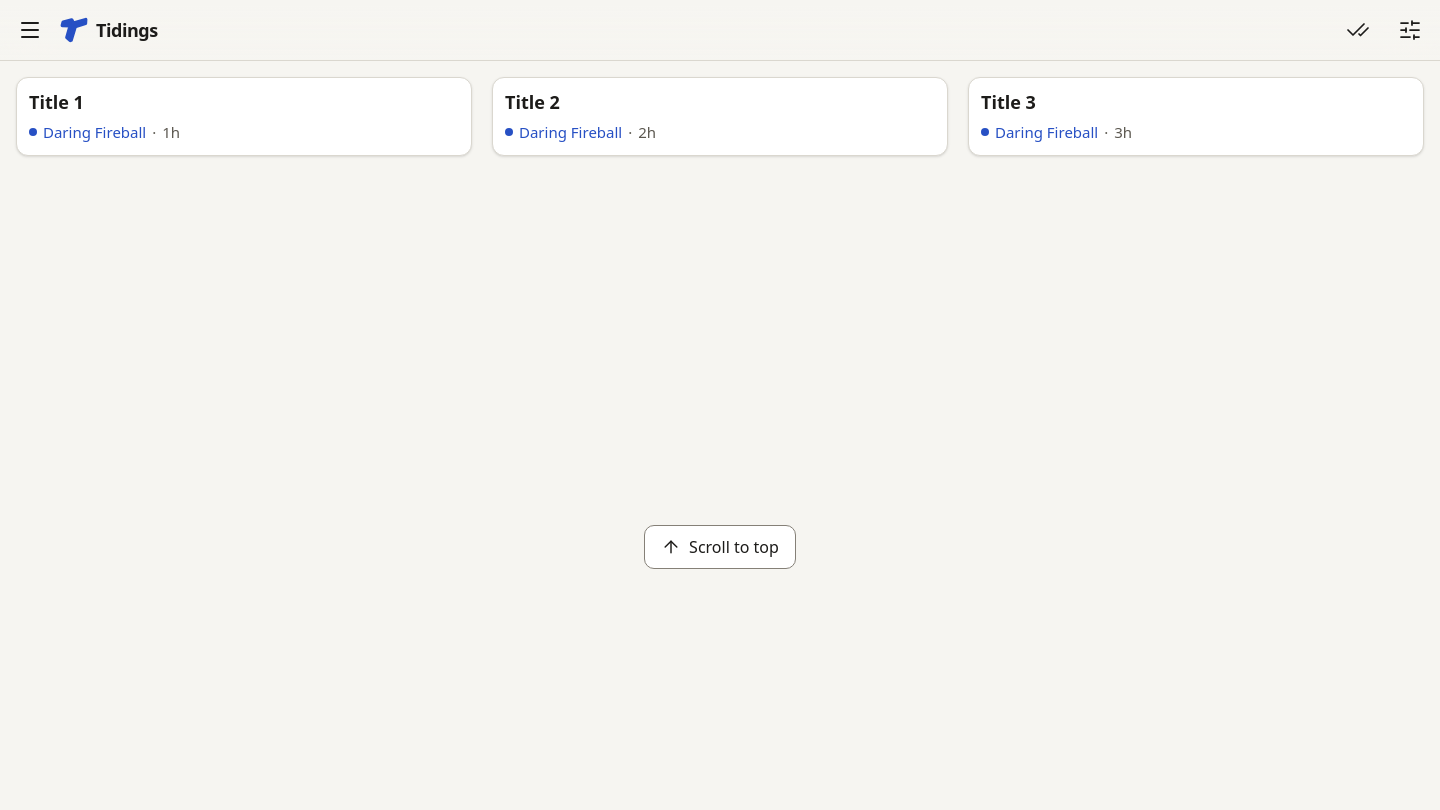
Scenario: TID-055: swipe gestures in the installed app › the open drawer swipes left to close, in a browser tab too
The width and height of the screenshot is (1440, 810).
Expected: the heading "Title 1" is shown, [29,90,84,114]
Click the button named "Open navigation": (30, 30) [8,8,52,52]
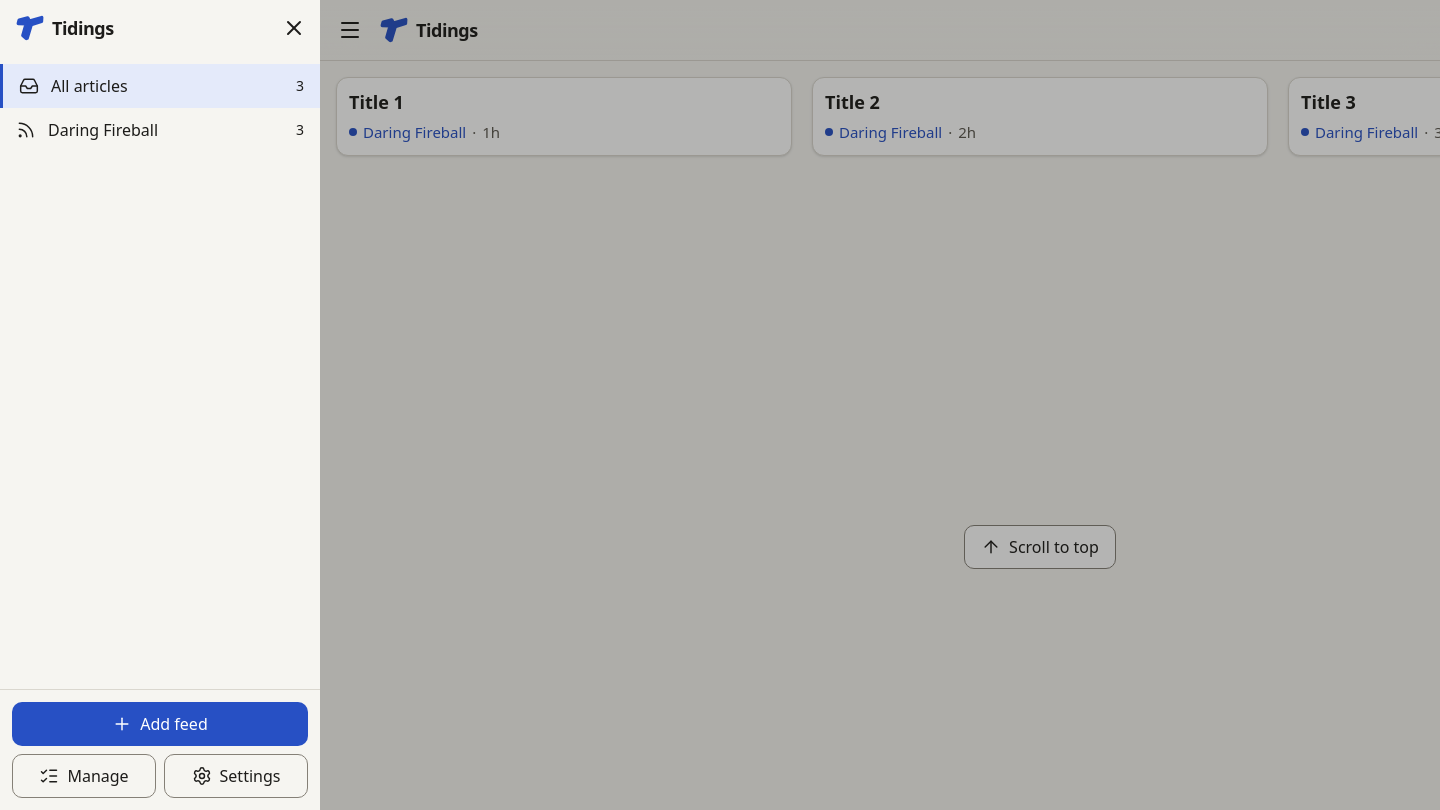
Press the mouse on the dialog named "Navigation": (160, 405) [0,0,320,809]
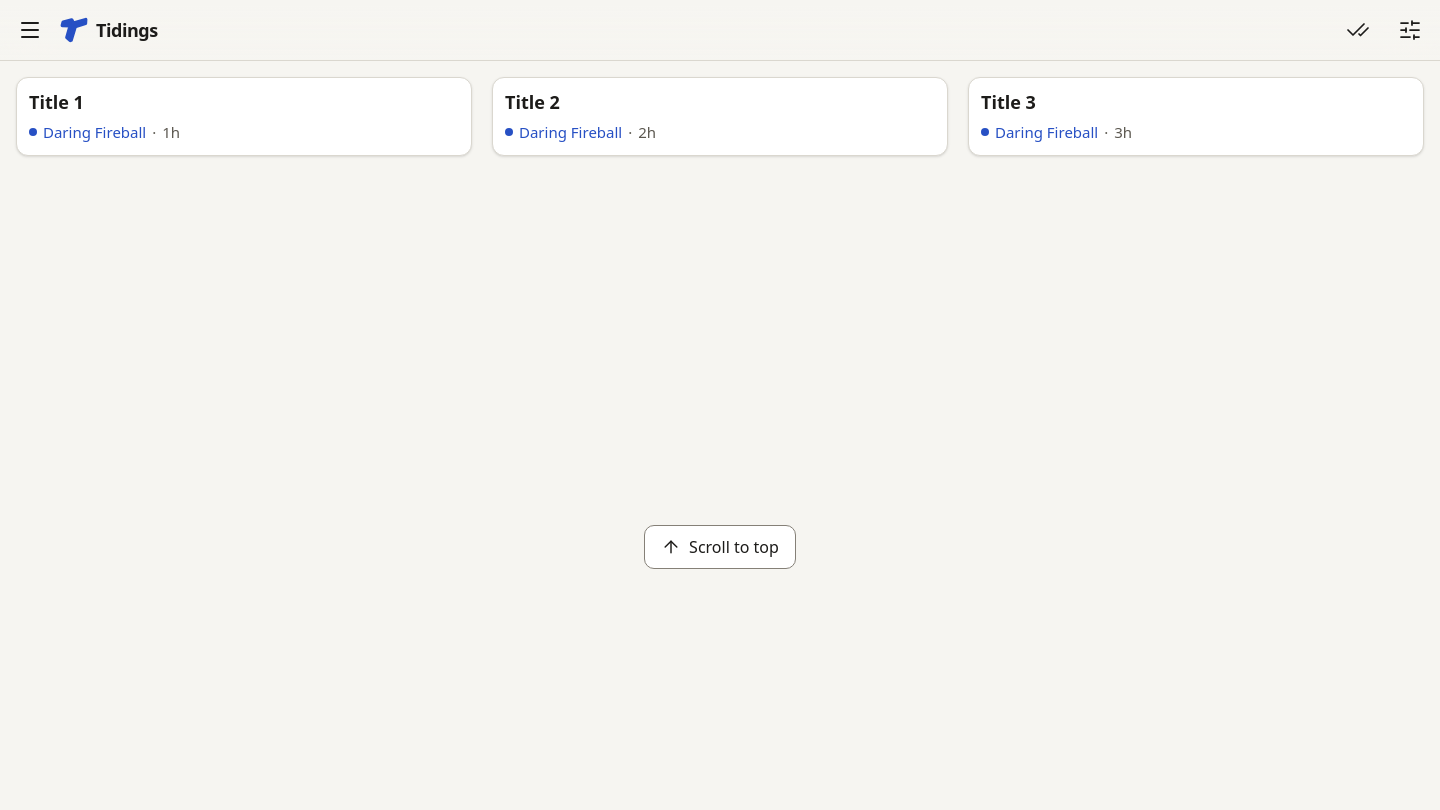
Now the button "Navigation" is gone
